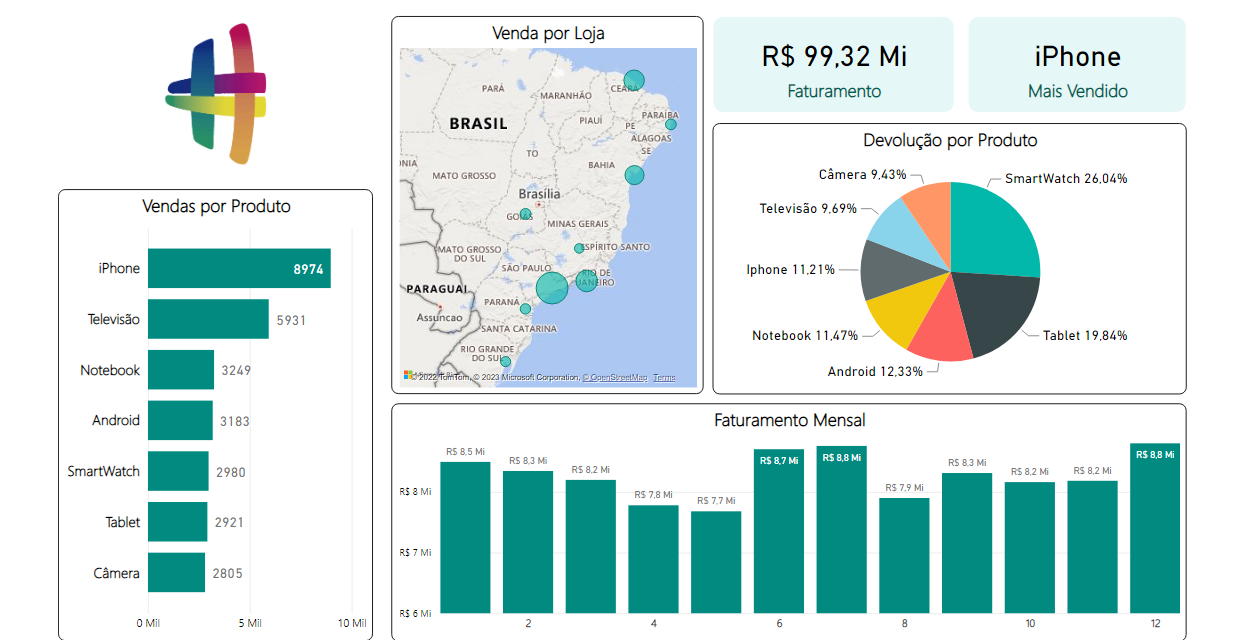

The dashboard page shown, as its layout file describes it:
{"tool":"powerbi","page":{"name":"Página 1","canvas":[1280,720],"ordinal":0},"visuals":[{"type":"image","box":[79.2,17.3,195.8,174.2],"z":0},{"type":"barChart","title":"Vendas por Produto","fields":{"Y":["Sum(Base Vendas.Quantidade Vendida)"],"Category":["Base Vendas.Produto"]},"box":[0,211.7,354.2,508.3],"z":1000},{"type":"card","fields":{"Values":["Sum(Base Vendas.Faturamento na Venda)"]},"box":[735.8,17.3,272.2,109.4],"z":2000},{"type":"card","fields":{"Values":["Min(Base Vendas.Produto)"]},"box":[1022.4,17.3,246.2,109.4],"z":3000},{"type":"columnChart","title":"Faturamento Mensal","fields":{"Y":["Sum(Base Vendas.Faturamento na Venda)"],"Category":["Base Vendas.Mês"]},"box":[374.4,452.2,894.2,267.8],"z":4000},{"type":"pieChart","title":"Devolução por Produto","fields":{"Y":["Sum(Base Devolucoes.Quantidade Devolvida)"],"Category":["Base Devolucoes.Produto"]},"box":[735.8,136.8,532.8,305.3],"z":5000},{"type":"map","title":"Venda por Loja","fields":{"Category":["Base Vendas.Loja"],"Size":["Sum(Base Vendas.Faturamento na Venda)"]},"box":[374.4,17.3,351.4,424.8],"z":6000}]}

Visuals, with their boxes on the page's 1280x720 design canvas (x1, y1, x2, y2). These are canvas units, not pixel positions in the 1236x640 screenshot, which may show the page scaled, cropped or inside an application window:
image: (left=79, top=17, right=275, bottom=192)
"Vendas por Produto" barChart: (left=0, top=212, right=354, bottom=720)
card - Sum(Base Vendas.Faturamento na Venda): (left=736, top=17, right=1008, bottom=127)
card - Min(Base Vendas.Produto): (left=1022, top=17, right=1269, bottom=127)
"Faturamento Mensal" columnChart: (left=374, top=452, right=1269, bottom=720)
"Devolução por Produto" pieChart: (left=736, top=137, right=1269, bottom=442)
"Venda por Loja" map: (left=374, top=17, right=726, bottom=442)
